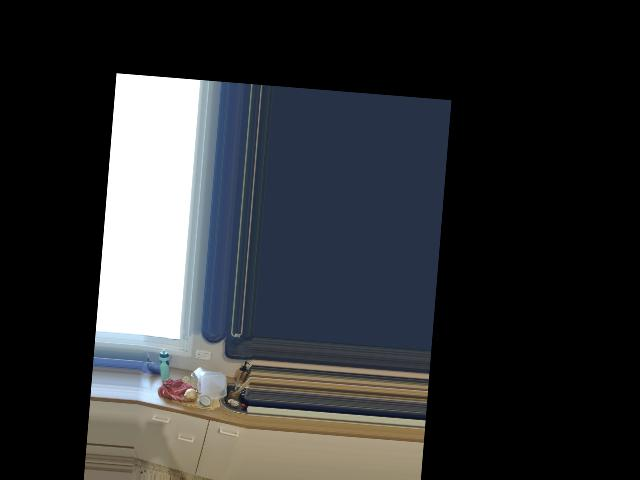onion: (179, 386, 196, 405)
